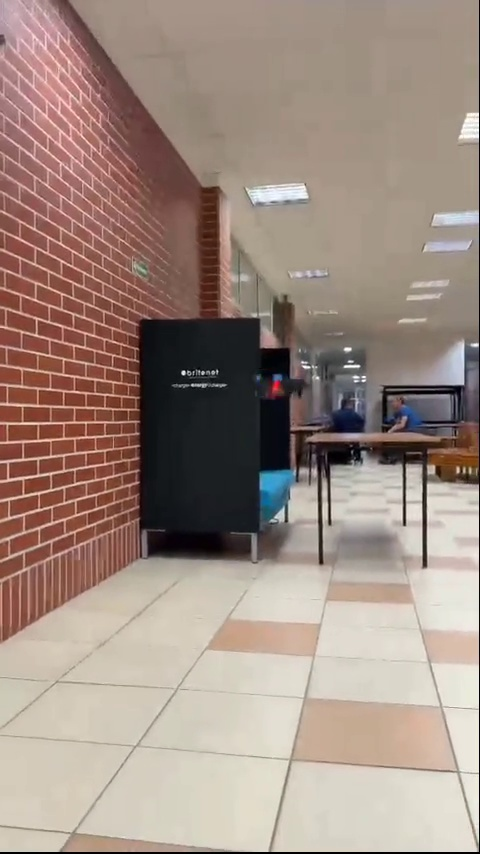drone: (249, 372, 303, 400)
no vest: (327, 383, 367, 438), (382, 393, 423, 436)
